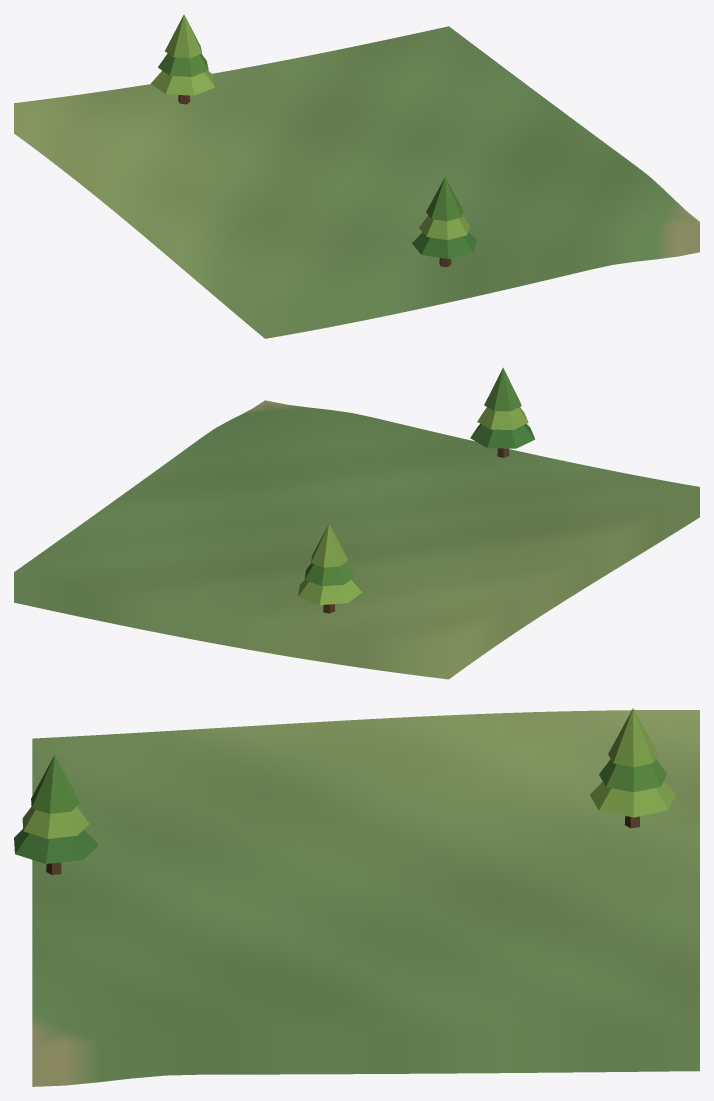
3 renders of one model, top to bottom at view 1: azimuth 30°, elevation 25°; view 2: azimuth 150°, elevation 25°; view 3: azimuth 270°, elevation 25°, orthographic. The views are drawn at different scales.
Visible parts, largest first — view 1: terrain, scenery; view 2: terrain, scenery; view 3: terrain, scenery.
Boxes of the visible parts, x1,y1,x2,y2 form: terrain: (14, 26, 699, 338); scenery: (151, 14, 476, 266); terrain: (14, 400, 699, 679); scenery: (298, 367, 535, 613); terrain: (32, 710, 699, 1086); scenery: (14, 708, 676, 875).
Size of the model in its own units: 30 by 9.46 by 30.82.
